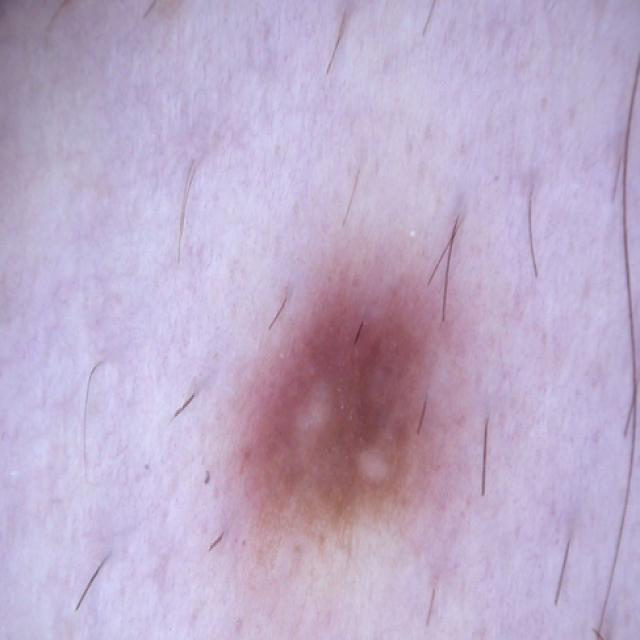Dermatofibroma: (227, 241, 436, 571)
